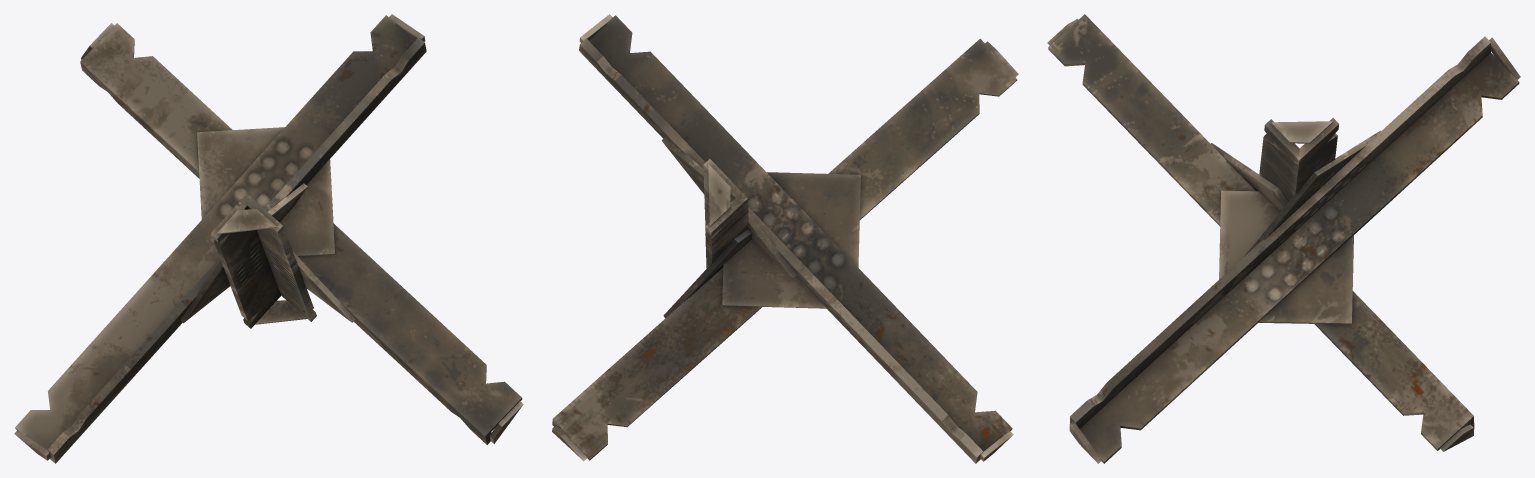
Rendered from MediumTank_Gear_TankTrap.FBX.
3 views of the same model, side by side, from view 1: azimuth 30°, elevation 25°; view 2: azimuth 150°, elevation 25°; view 3: azimuth 270°, elevation 25° (orthographic). The views are drawn at different scales.
Visible parts, largest first — view 1: MediumTank_Gear_TankTrap; view 2: MediumTank_Gear_TankTrap; view 3: MediumTank_Gear_TankTrap.
Part boxes in pixels (<box>): MediumTank_Gear_TankTrap: <box>14,14,523,463</box>; MediumTank_Gear_TankTrap: <box>552,14,1018,463</box>; MediumTank_Gear_TankTrap: <box>1047,14,1520,463</box>.
Size of the model in its own units: 1.63 by 1.34 by 1.63.
